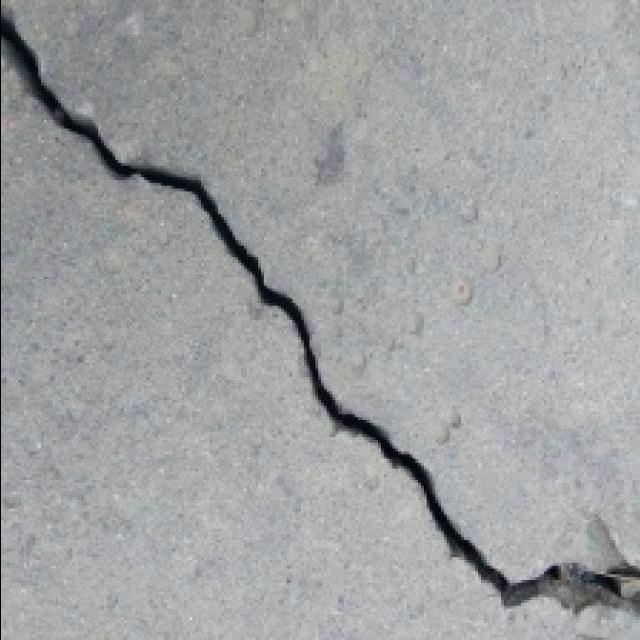SurfaceCrack: (2, 4, 640, 640)
